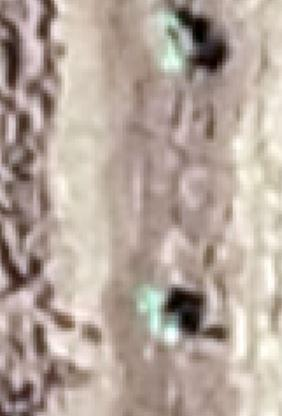cotton: (137, 287, 164, 311), (150, 309, 177, 332), (167, 35, 183, 67), (161, 13, 178, 29)
